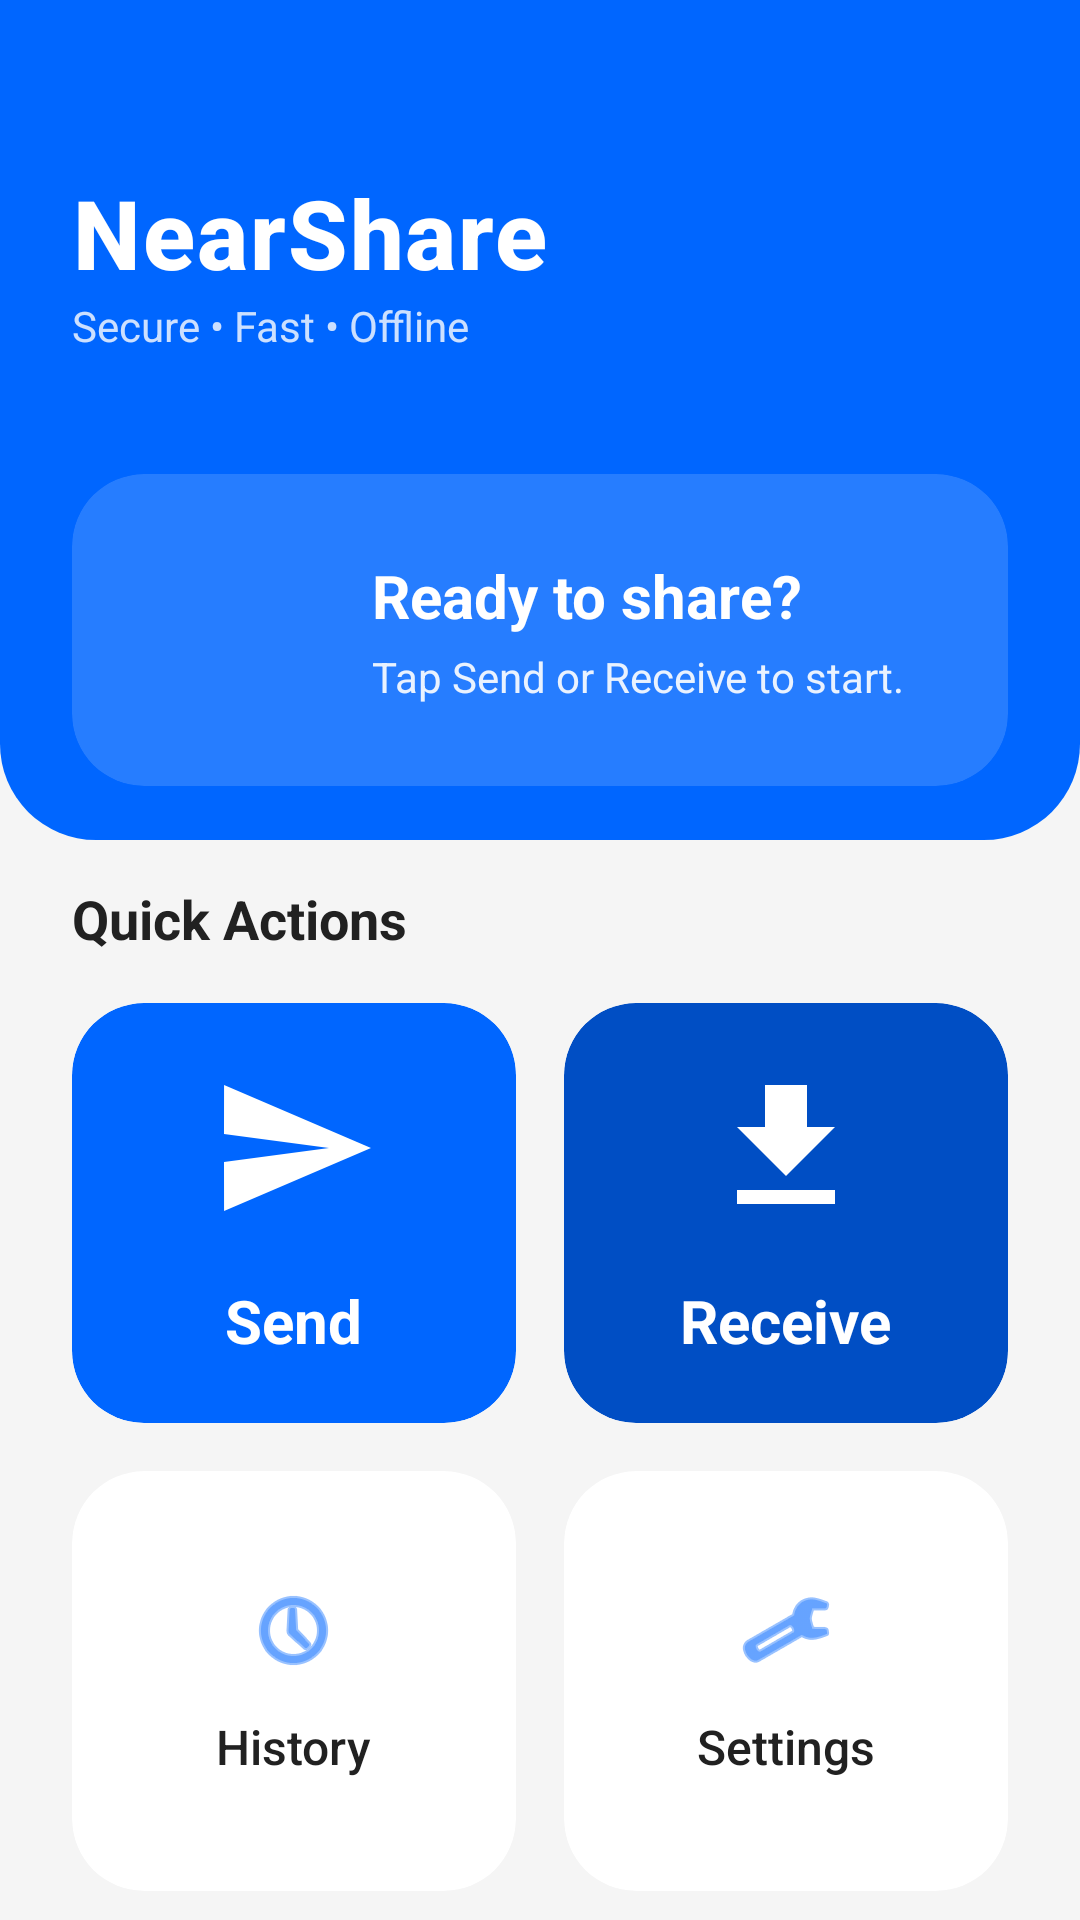

Screen size 1080 × 1920. Icon name, then its center in pixels as [x,y]:
preferences: [786,1630]
